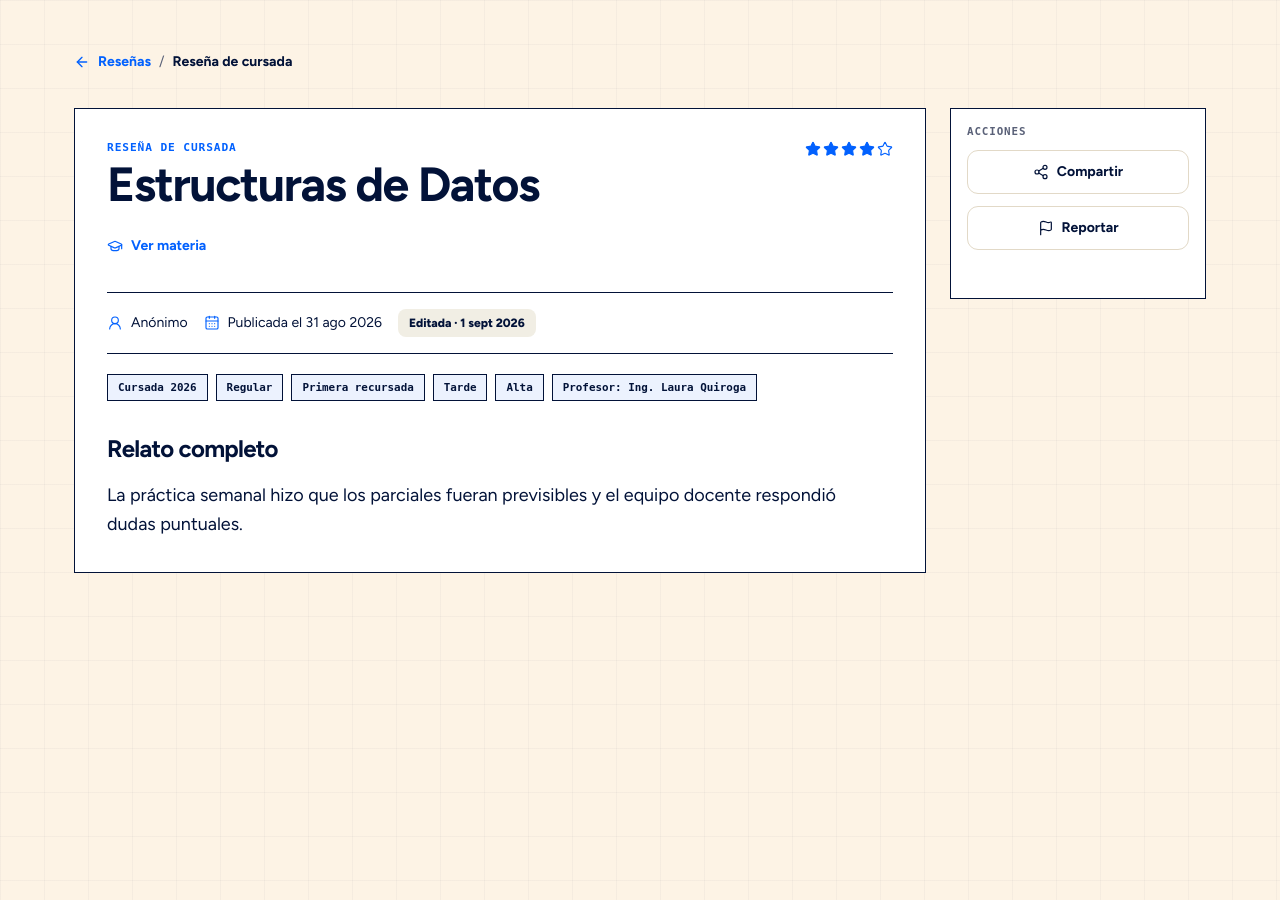
Test case: CommunityDetailPage › submits a categorized report while keeping the entry visible
This screenshot has width=1280, height=900.
Expected: the heading "Estructuras de Datos" is shown, [107,162,539,208]
Click the button "Reportar" at [1078, 228], box [967,206,1189,250]
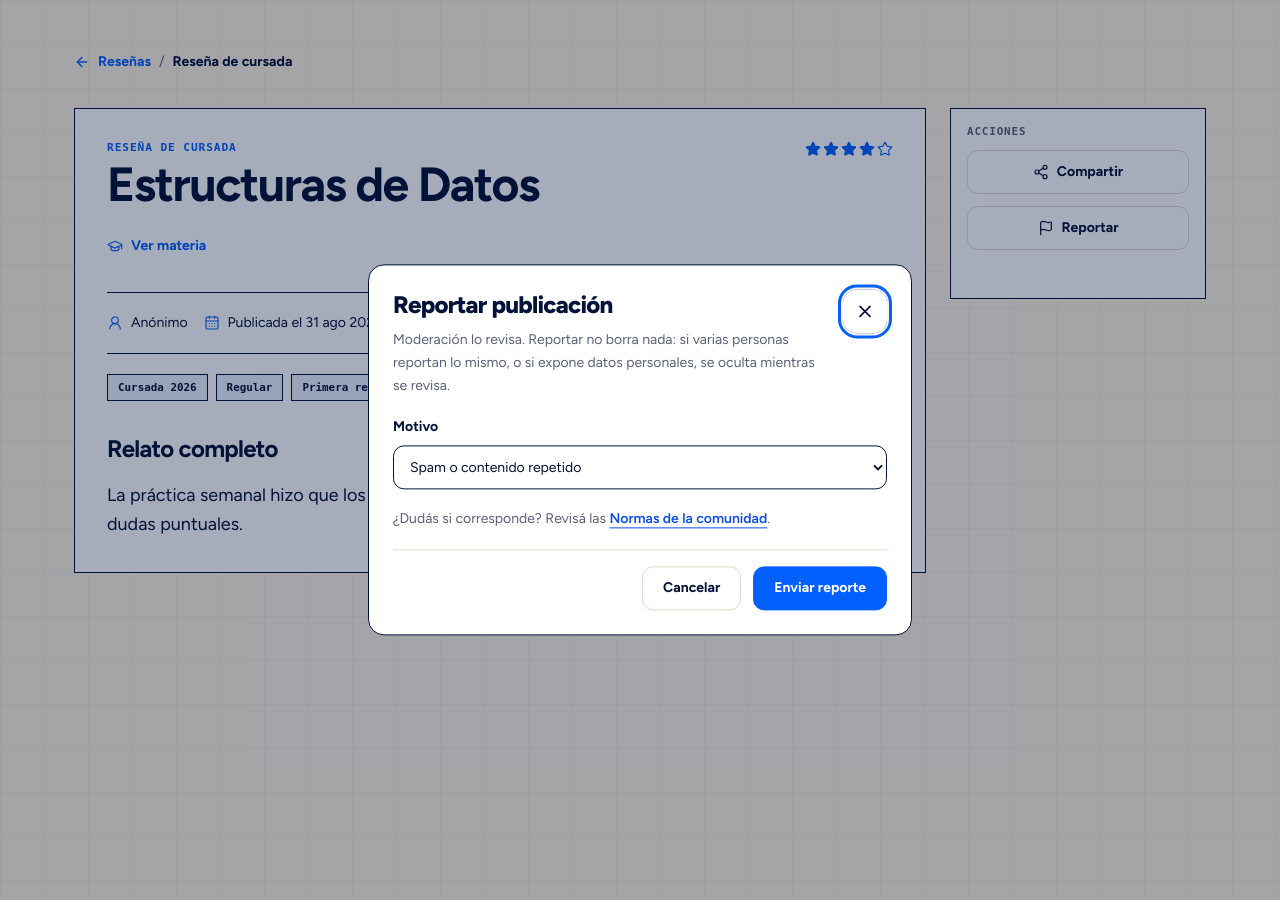
Result: the dialog "Reportar publicación" is shown at [368,264,912,636]
Click the button "Enviar reporte" at [820, 589], box [753,567,887,611]
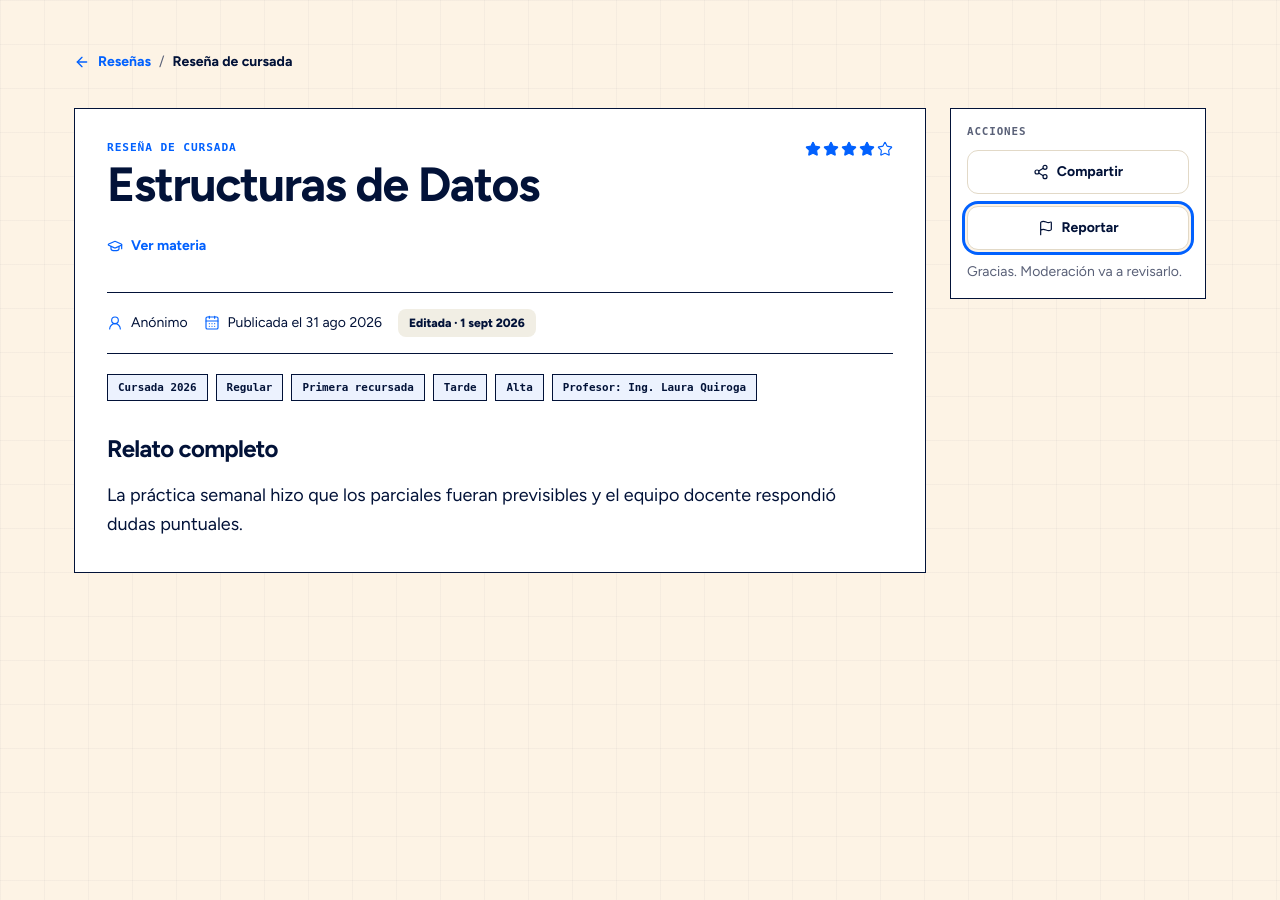
Result: the text "Gracias. Moderación va a revisarlo." is shown at [967,262,1189,282]
